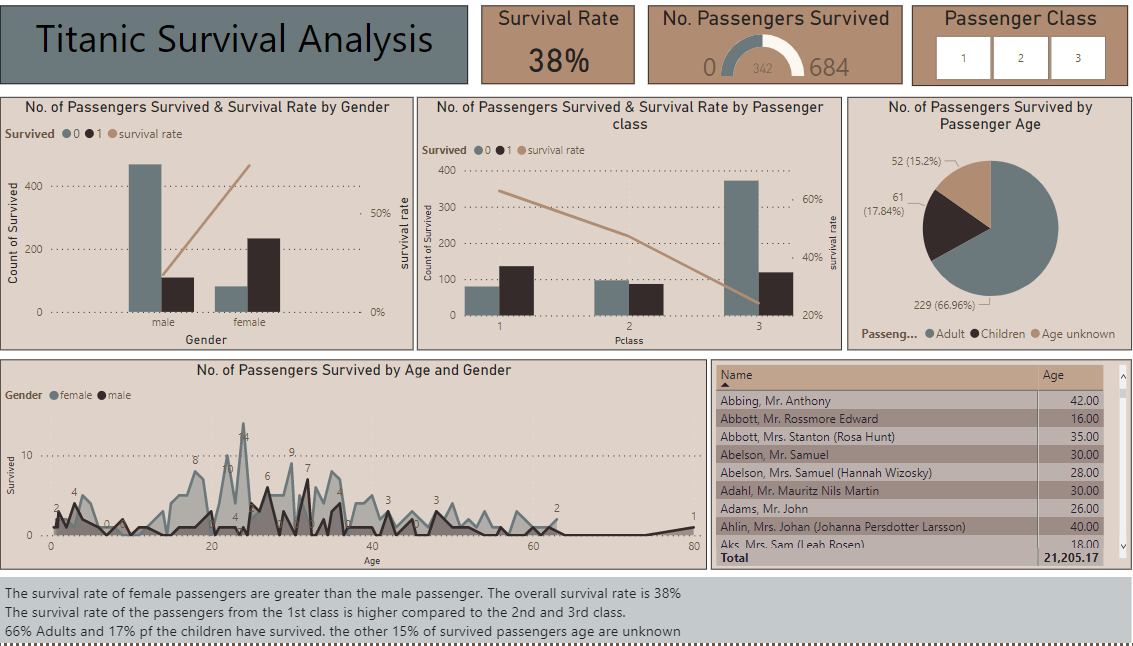

The dashboard page shown, as its layout file describes it:
{"tool":"powerbi","page":{"name":"Page 1","canvas":[1280,720],"ordinal":0},"visuals":[{"type":"card","title":"Survival Rate","fields":{"Values":["Titanic.survival rate"]},"box":[535.6,11.1,170.1,87.4],"z":0},{"type":"lineClusteredColumnComboChart","title":"No. of Passengers Survived & Survival Rate by Gender ","fields":{"Category":["Titanic.Gender"],"Y2":["Titanic.survival rate"],"Y":["Titanic.Survived"],"Series":["Titanic.Survived"]},"box":[0,112.8,459.3,281.3],"z":1000},{"type":"lineClusteredColumnComboChart","title":"No. of Passengers Survived & Survival Rate by Passenger class ","fields":{"Y":["Titanic.Survived"],"Y2":["Titanic.survival rate"],"Series":["Titanic.Survived"],"Category":["Titanic.Pclass"]},"box":[464.1,112.8,472.1,281.3],"z":2000},{"type":"pieChart","title":"No. of Passengers Survived by Passenger Age","fields":{"Category":["Titanic.Passenger Age"],"Y":["Titanic.Survived"]},"box":[940.9,112.8,316.3,281.3],"z":3000},{"type":"areaChart","title":"No. of Passengers Survived by Age and Gender","fields":{"Category":["Titanic.Age"],"Y":["Titanic.Survived"],"Series":["Titanic.Gender"]},"box":[0,405.3,785.2,233.6],"z":4000},{"type":"slicer","title":"Passenger Class","fields":{"Values":["Titanic.Pclass"]},"box":[1014,11.1,240,89],"z":5000},{"type":"textbox","box":[0,11.1,519.7,87.4],"z":6000},{"type":"gauge","title":"No. Passengers Survived","fields":{"Y":["Titanic.Survived"],"TargetValue":["Titanic.Name"]},"box":[720,11.1,282.9,87.4],"z":7000},{"type":"pivotTable","fields":{"Rows":["Titanic.Name"],"Values":["Titanic.Age"]},"box":[789.9,405.3,467.3,233.6],"z":7001},{"type":"textbox","box":[0,646.9,1257.2,73.1],"z":7002}]}

Visuals, with their boxes in screenshot pixels (x1, y1, x2, y2), scaled from the page's 1280x720 canvas onto the 1133x646 screenshot:
"Survival Rate" card: (474, 10, 625, 88)
"No. of Passengers Survived & Survival Rate by Gender " lineClusteredColumnComboChart: (0, 101, 407, 354)
"No. of Passengers Survived & Survival Rate by Passenger class " lineClusteredColumnComboChart: (411, 101, 829, 354)
"No. of Passengers Survived by Passenger Age" pieChart: (833, 101, 1113, 354)
"No. of Passengers Survived by Age and Gender" areaChart: (0, 364, 695, 573)
"Passenger Class" slicer: (898, 10, 1110, 90)
textbox: (0, 10, 460, 88)
"No. Passengers Survived" gauge: (637, 10, 888, 88)
pivotTable - Titanic.Name x Titanic.Age: (699, 364, 1113, 573)
textbox: (0, 580, 1113, 645)
